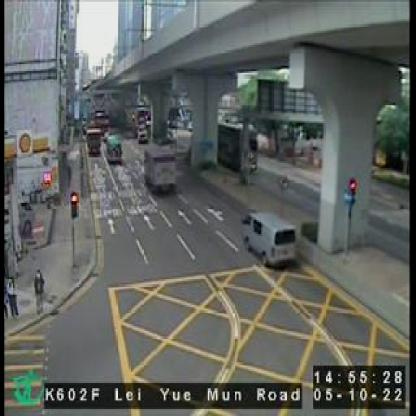Bus: (216, 119, 256, 172)
Car: (242, 210, 295, 262)
Minibus: (106, 135, 122, 163)
Truck: (143, 146, 177, 192), (83, 128, 99, 154)
